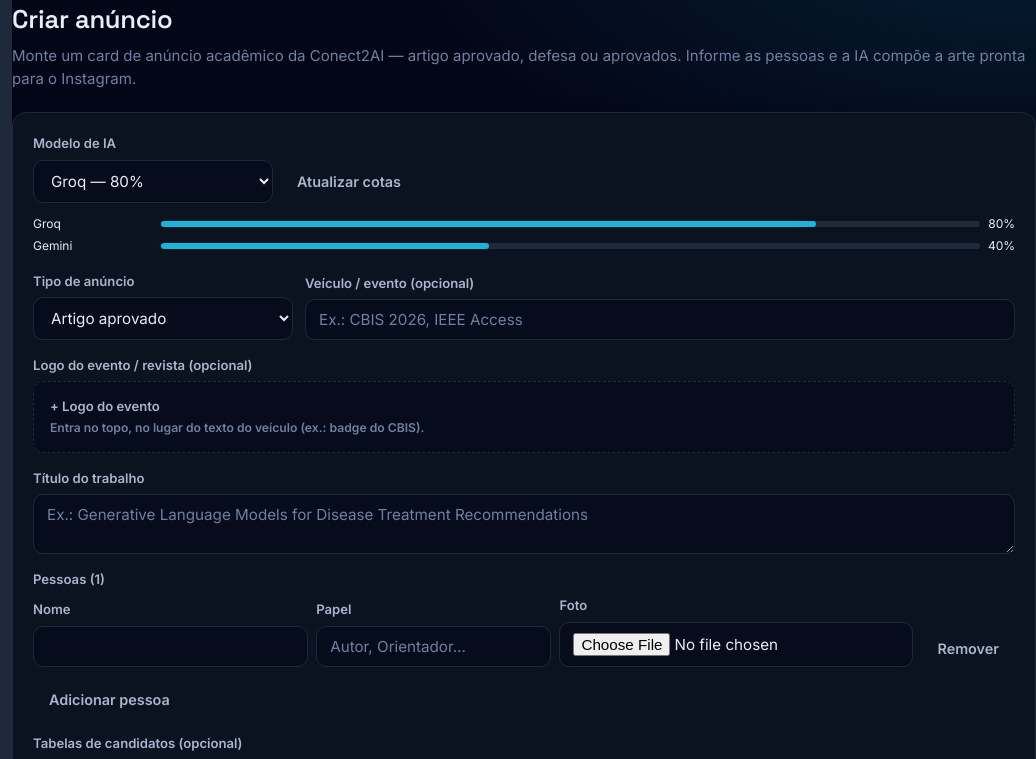
Test case: PaginaAnuncio › lista provedores com % e envia o escolhido; mostra o modelo usado
Select "Groq — 80%" in the dropdown labelled "Modelo de IA": (153, 181) x1=33 y1=160 x2=273 y2=202
Replace the text in the text box labelled "Título do trabalho" with "Modelos Generativos": (524, 524) x1=33 y1=494 x2=1015 y2=554
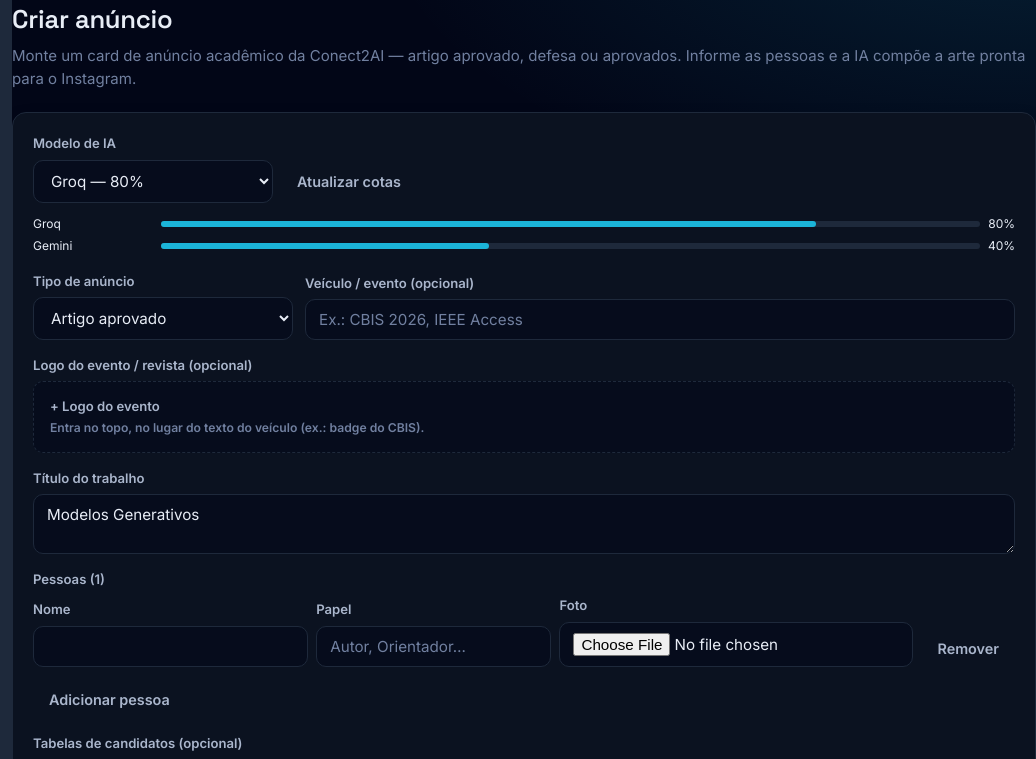
In the field labelled "Nome": (171, 646) x1=33 y1=626 x2=308 y2=667, type "Júlia"
(page scrolled)
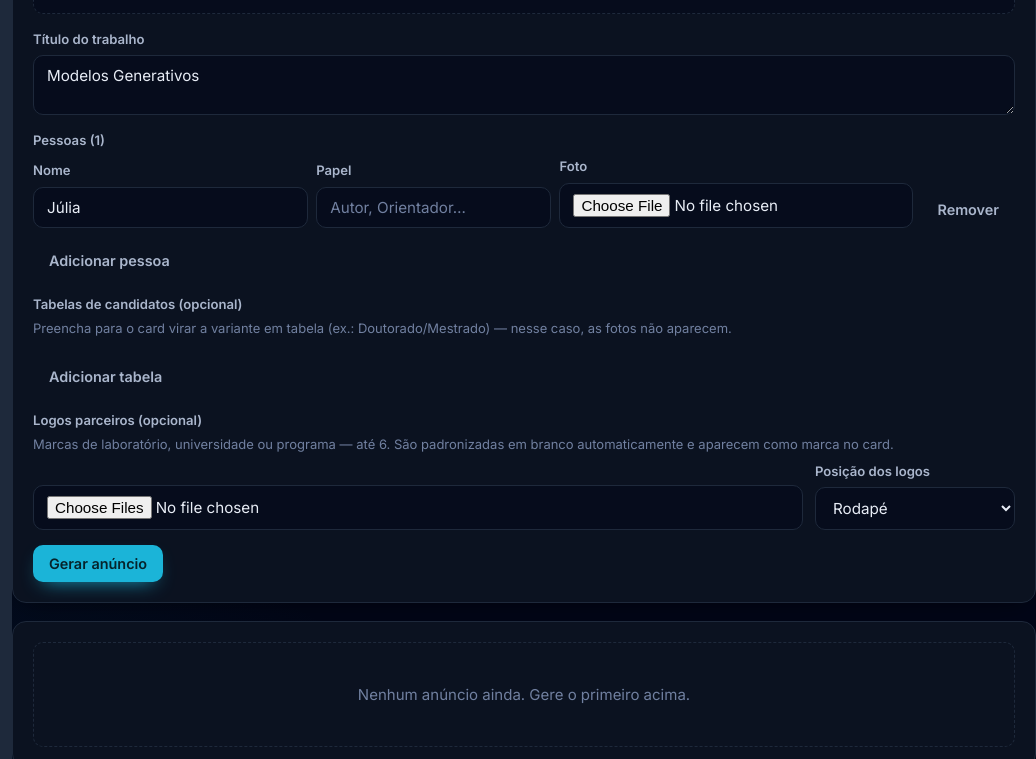
Click the button "Gerar anúncio": (98, 563) x1=33 y1=545 x2=163 y2=582
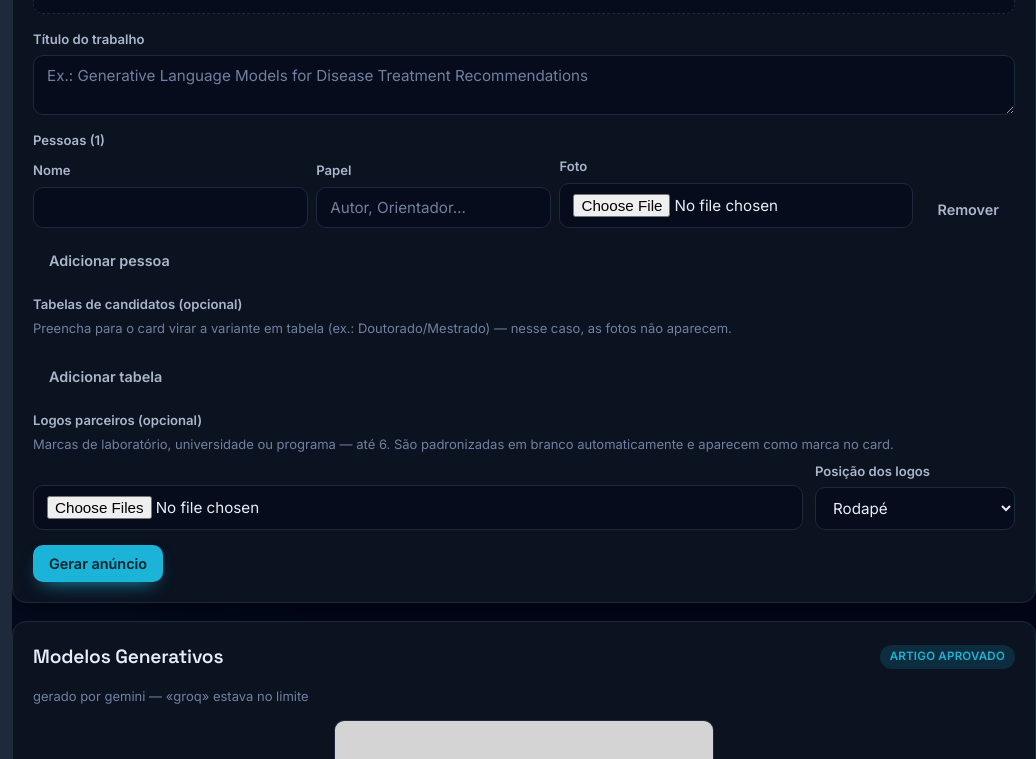
Result: the text "gerado por gemini — «groq» estava no limite" is shown at x1=33 y1=688 x2=309 y2=704
